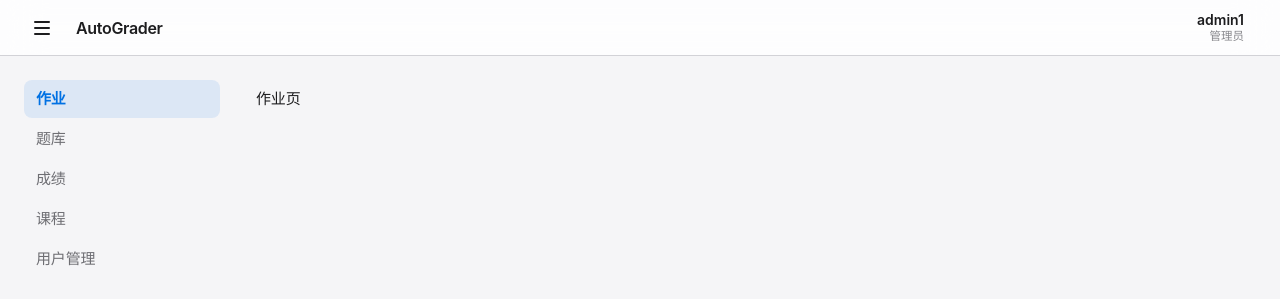
it: 角色导航与账户菜单 › 用户管理只在管理员侧栏可进入，且进入后保持高亮；账户菜单不再有该入口
The width and height of the screenshot is (1280, 299).
Expected: the link with test id "nav-admin-users" reads "用户管理", [36,249,95,268]
Click the button with test id "account-menu-button" at (1220, 28), box [1185,8,1256,48]
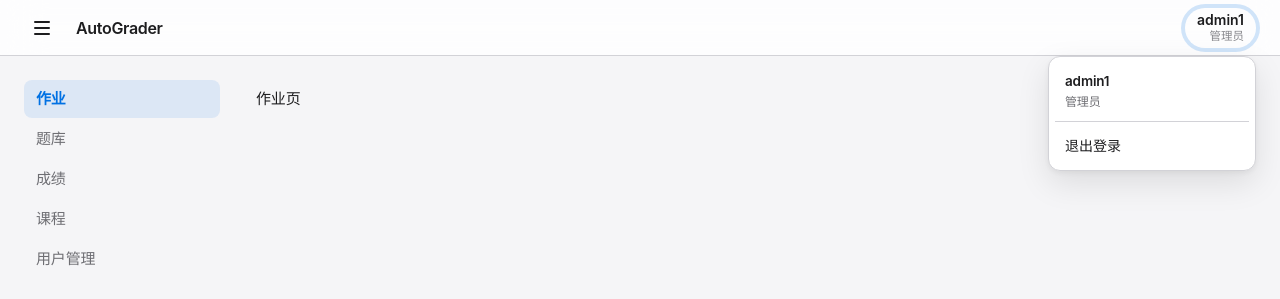
Now the 2nd text "admin1" is shown, box [1065,72,1109,88]
Now the 2nd text "管理员" is shown, box [1065,94,1101,109]
Now the button with test id "account-logout" is shown, box [1055,128,1249,164]
Click the button with test id "account-menu-button" at (1220, 28), box [1185,8,1256,48]
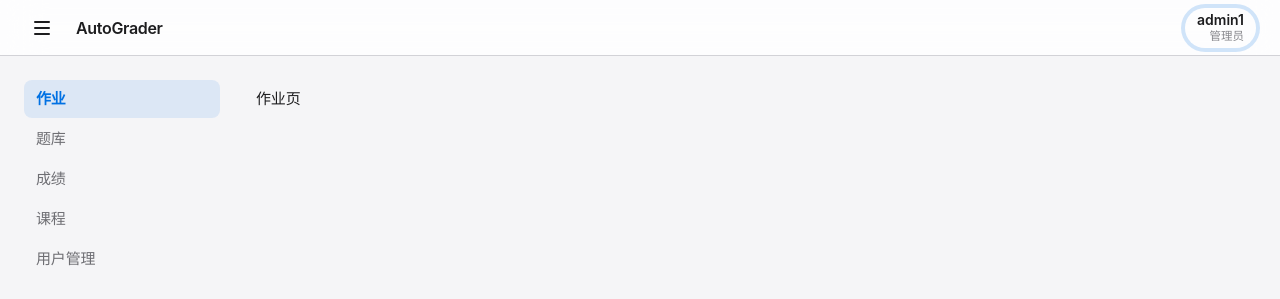
Click the link with test id "nav-admin-users" at (66, 258), box [36,249,95,268]
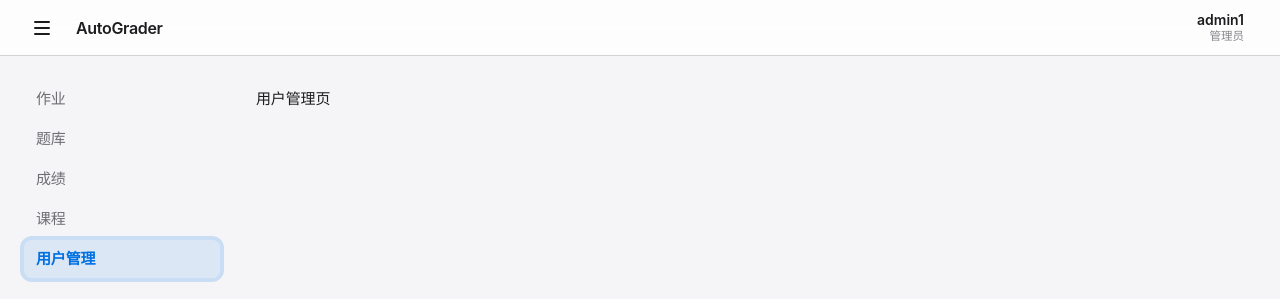
Now the text "用户管理页" is shown, box [256,89,330,108]
